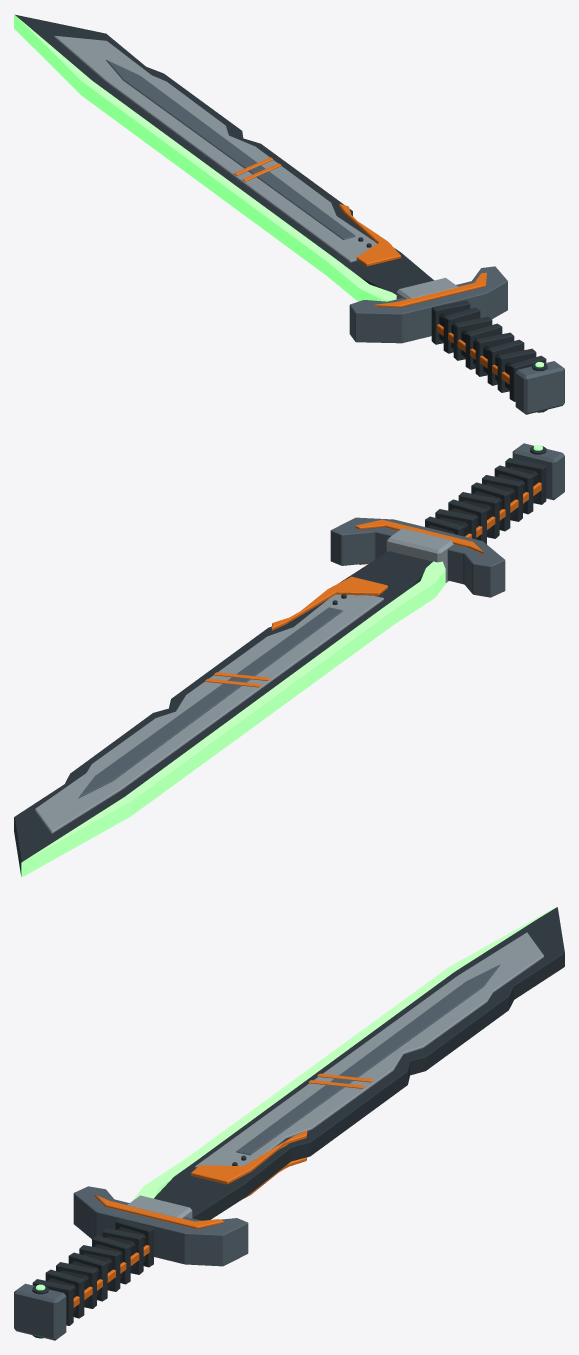
The model's file is sword.glb.
3 views of the same model, one above another, from view 1: azimuth 30°, elevation 25°; view 2: azimuth 150°, elevation 25°; view 3: azimuth 330°, elevation 25° (orthographic). The views are drawn at different scales.
Visible parts, largest first — view 1: Body | 03 | graphite steel, Body | 02 | machined edge metal, Body | 01 | ceramic gray receiver, Body | 06 | lime status emitters, Body | 04 | burnt orange enamel, Body | 05 | charcoal grip polymer; view 2: Body | 03 | graphite steel, Body | 01 | ceramic gray receiver, Body | 02 | machined edge metal, Body | 06 | lime status emitters, Body | 04 | burnt orange enamel, Body | 05 | charcoal grip polymer; view 3: Body | 03 | graphite steel, Body | 02 | machined edge metal, Body | 01 | ceramic gray receiver, Body | 06 | lime status emitters, Body | 04 | burnt orange enamel, Body | 05 | charcoal grip polymer.
Part boxes in pixels (left/top/right/bottom): Body | 03 | graphite steel: left=15, top=14, right=547, bottom=412; Body | 02 | machined edge metal: left=106, top=60, right=564, bottom=414; Body | 01 | ceramic gray receiver: left=54, top=36, right=458, bottom=299; Body | 06 | lime status emitters: left=14, top=14, right=543, bottom=413; Body | 04 | burnt orange enamel: left=234, top=157, right=509, bottom=384; Body | 05 | charcoal grip polymer: left=439, top=308, right=532, bottom=389; Body | 03 | graphite steel: left=14, top=446, right=546, bottom=875; Body | 01 | ceramic gray receiver: left=35, top=528, right=453, bottom=833; Body | 02 | machined edge metal: left=78, top=443, right=564, bottom=798; Body | 06 | lime status emitters: left=21, top=445, right=542, bottom=877; Body | 04 | burnt orange enamel: left=205, top=482, right=541, bottom=687; Body | 05 | charcoal grip polymer: left=427, top=459, right=538, bottom=539; Body | 03 | graphite steel: left=32, top=907, right=564, bottom=1338; Body | 02 | machined edge metal: left=14, top=964, right=500, bottom=1340; Body | 01 | ceramic gray receiver: left=127, top=932, right=543, bottom=1218; Body | 06 | lime status emitters: left=36, top=906, right=557, bottom=1338; Body | 04 | burnt orange enamel: left=73, top=1073, right=373, bottom=1307; Body | 05 | charcoal grip polymer: left=47, top=1227, right=145, bottom=1313.
Bounding box in the file's own units: 0.1927 × 0.058 × 1.12.
